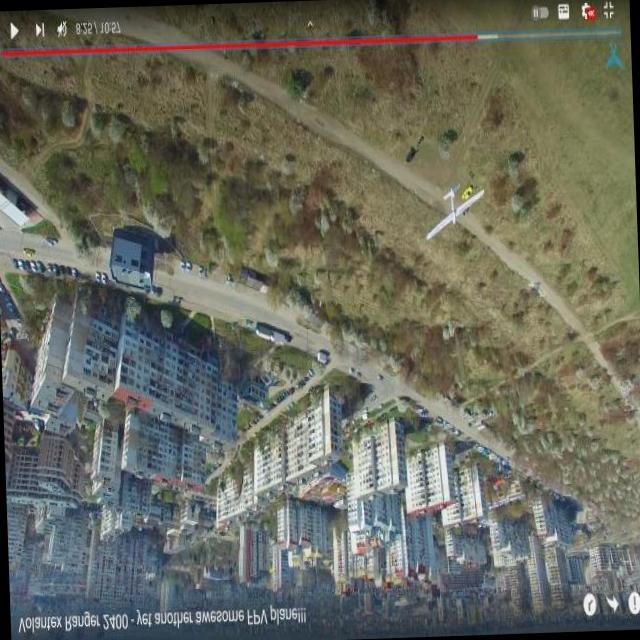UAV: (415, 156, 492, 256)
